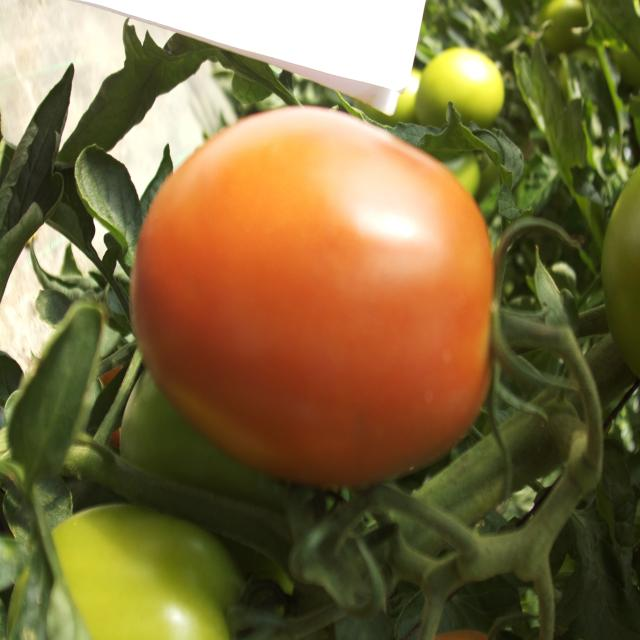kirmizi: (55, 65, 518, 478)
